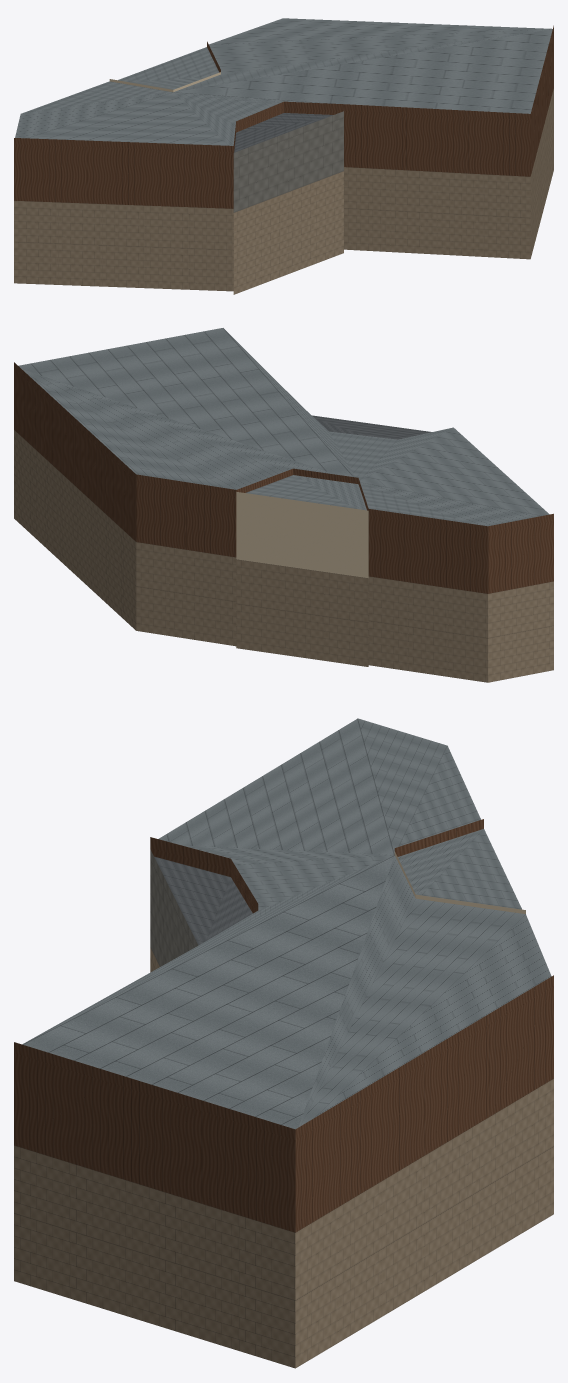
File: bld_c8_40_519.gltf
3 renders of one model, top to bottom at view 1: azimuth 30°, elevation 25°; view 2: azimuth 150°, elevation 25°; view 3: azimuth 270°, elevation 25°, orthographic. The views are drawn at different scales.
Parts seen in each view (by area): view 1: bld_c8_40_519; view 2: bld_c8_40_519; view 3: bld_c8_40_519.
Part boxes in pixels (x1,y1,x2,y2): bld_c8_40_519: (14,18,553,294); bld_c8_40_519: (14,328,553,682); bld_c8_40_519: (14,718,553,1368).
Size of the model in its own units: 31.04 by 8.48 by 16.95.
9 materials, 9 textured.
